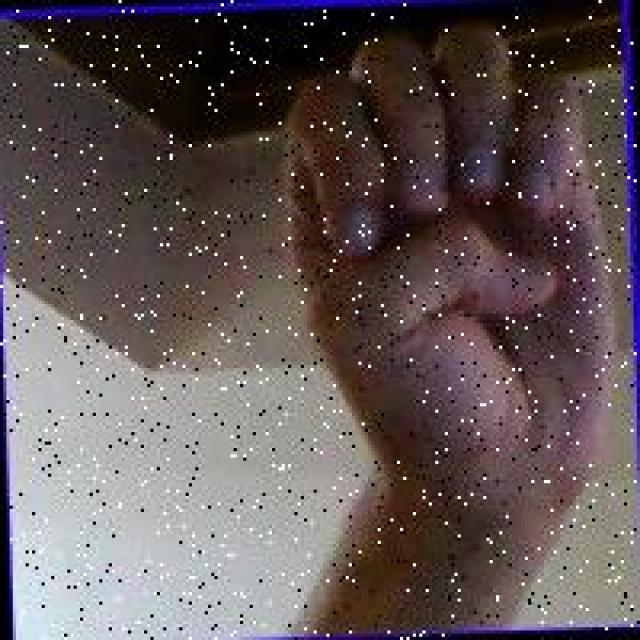E: (275, 14, 618, 572)
